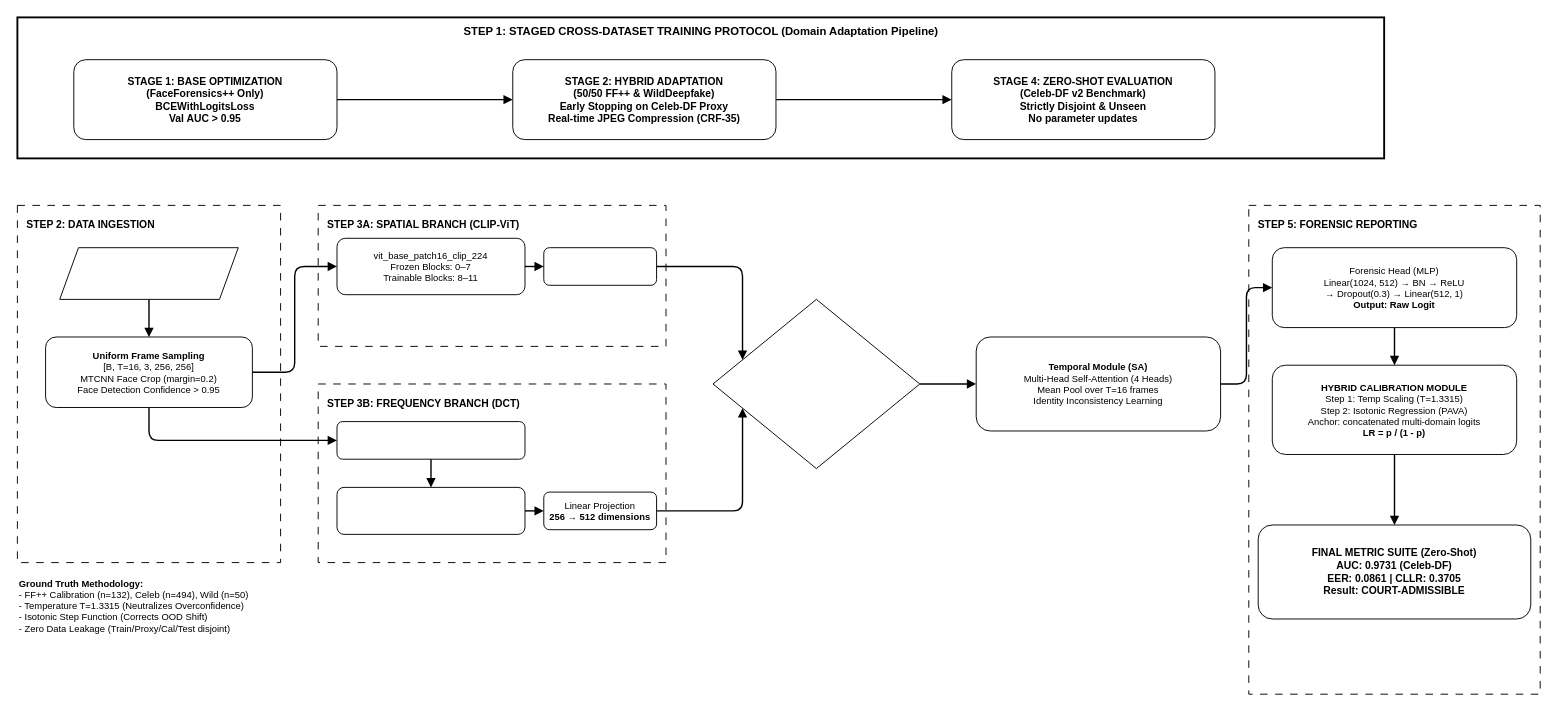
The diagram is 1557 pixels wide and 711 high, and some of its shapes have lost their labels. The centre of each missing label's shape, as x and y in pixels:
"2D-DCT Coefficients (YCbCr Spectral Signatures)" belongs at [430,440].
"Lightweight Frequency CNN Raw embedding: 256-dim" belongs at [430,510].
"Linear Projection 768 → 512 dimensions" belongs at [600,266].
"Raw Video Input" belongs at [148,273].
"STEP 4: BALANCED FUSION Concatenation (512 + 512 = 1024)" belongs at [816,383].
